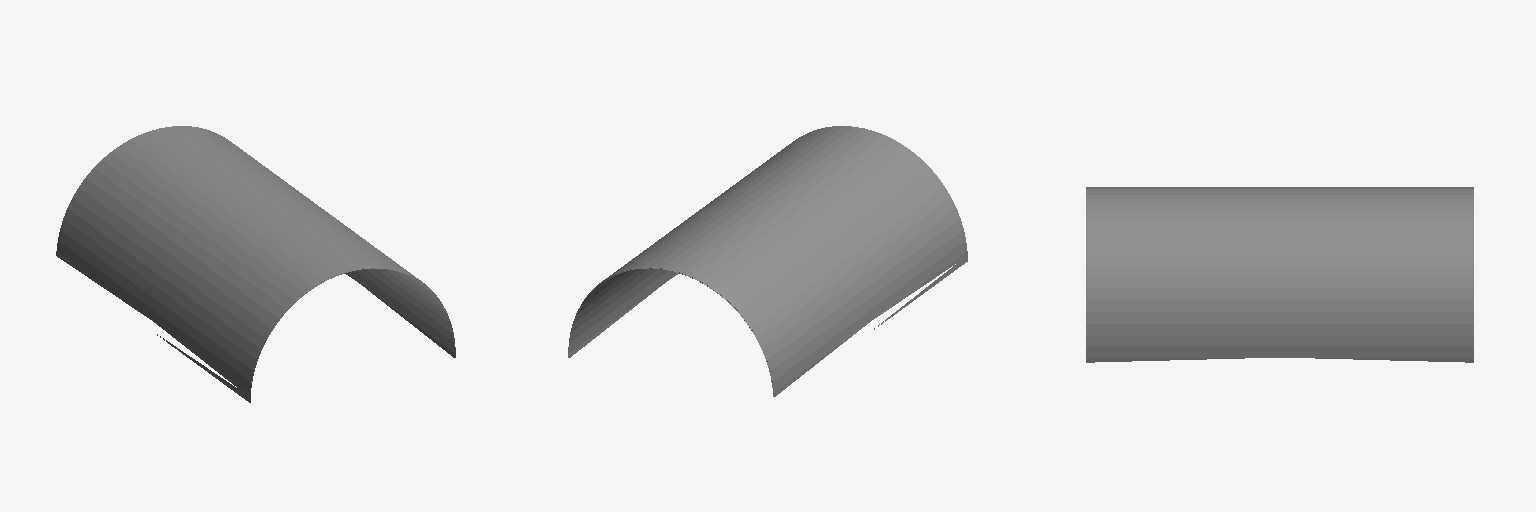
File: Medio_cilindro.obj
3 renders of one model, left to right at view 1: azimuth 30°, elevation 25°; view 2: azimuth 150°, elevation 25°; view 3: azimuth 270°, elevation 25°, orthographic.
Parts seen in each view (by area): view 1: Circle02; view 2: Circle02; view 3: Circle02.
Part boxes in pixels (x1,y1,x2,y2): Circle02: (56,126,455,402); Circle02: (568,126,967,396); Circle02: (1086,187,1473,362).
Bounding box in the file's own units: 142 × 74.64 × 231.